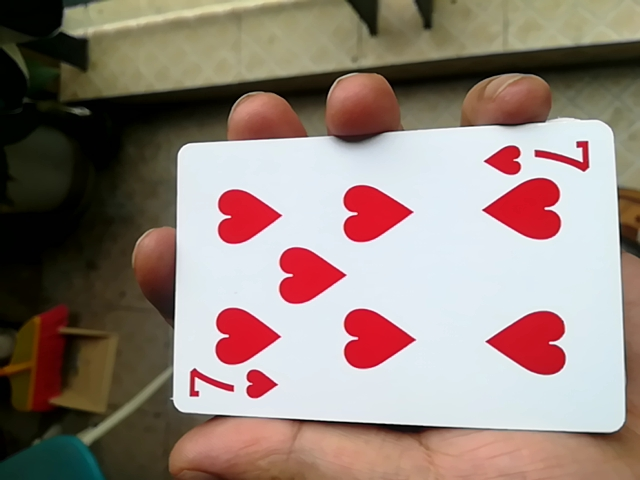hx 7: (157, 127, 619, 438)
